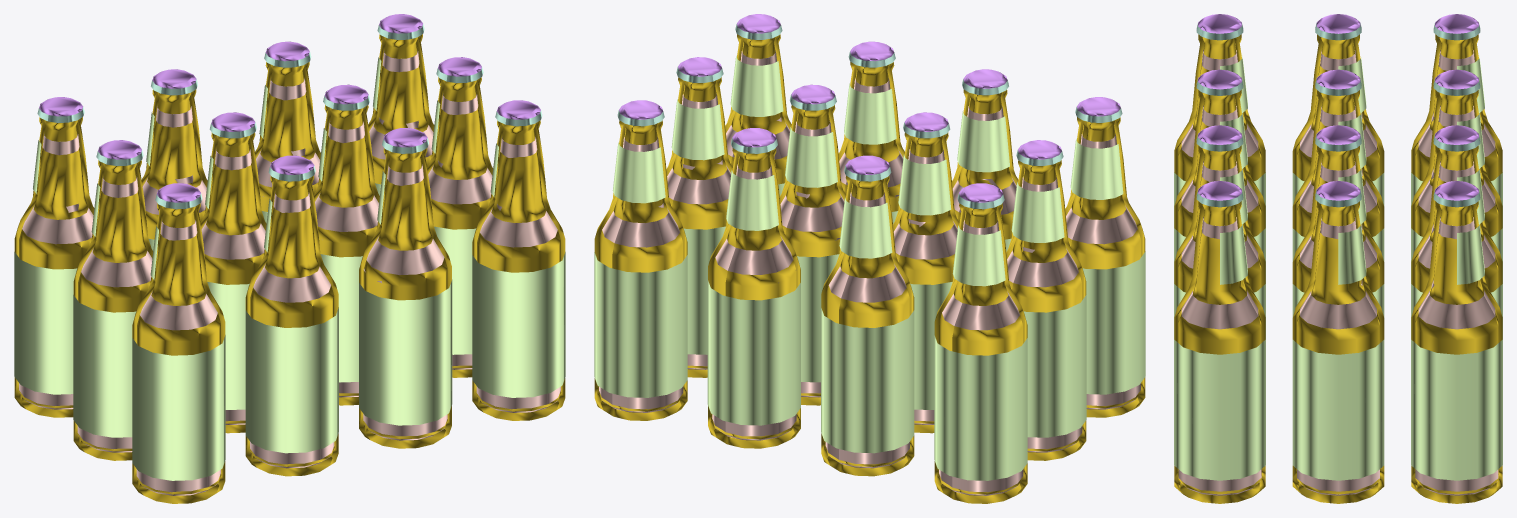
File: bottle_alcohol_01_beer_smoltz_shop_4x4_a.glb
3 renders of one model, left to right at view 1: azimuth 30°, elevation 25°; view 2: azimuth 150°, elevation 25°; view 3: azimuth 270°, elevation 25°, orthographic.
Size of the model in its own units: 0.3715 by 0.25 by 0.2498.
